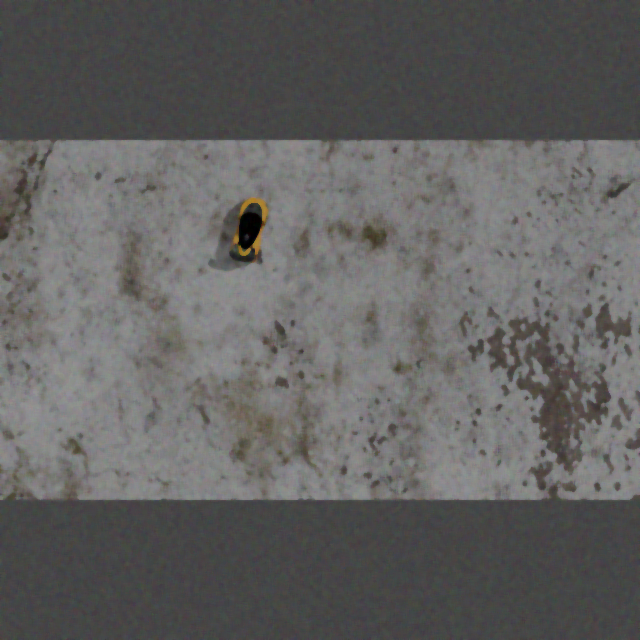car: (226, 191, 273, 265)
